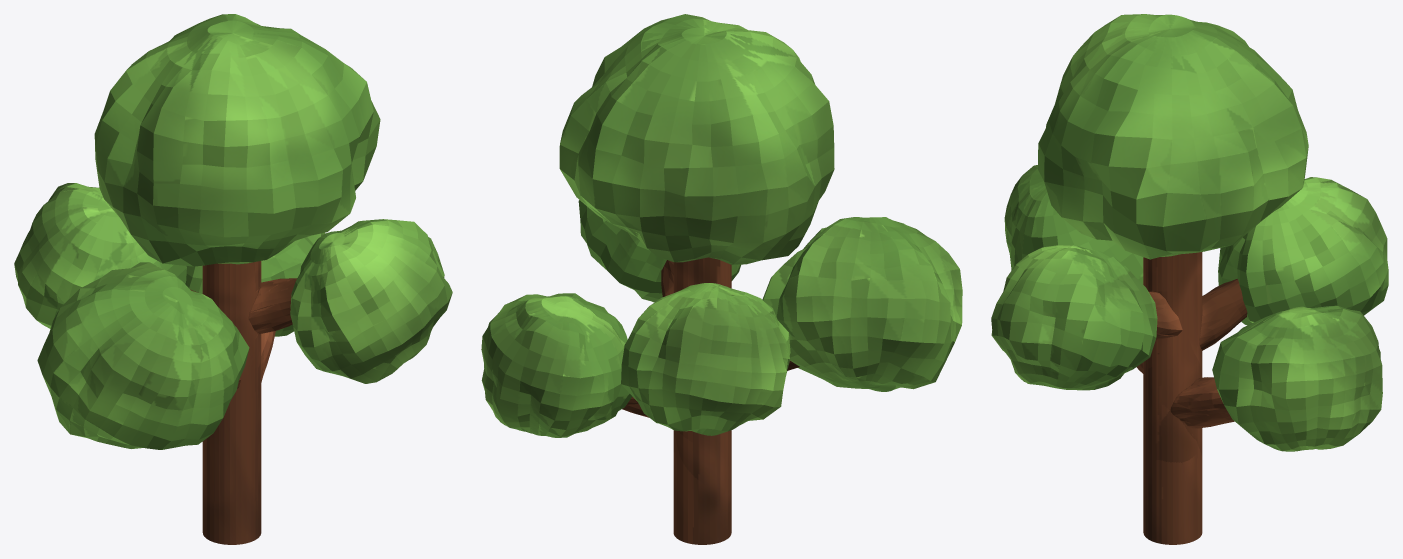
File: variation_tree_1.glb
The picture shows the model from 3 angles, left to right: view 1: azimuth 30°, elevation 25°; view 2: azimuth 150°, elevation 25°; view 3: azimuth 270°, elevation 25°; orthographic projection.
Parts seen in each view (by area): view 1: Leaves, Base; view 2: Leaves, Base; view 3: Leaves, Base.
Part boxes in pixels (<box>): Leaves: <box>14,14,452,449</box>; Base: <box>190,261,296,544</box>; Leaves: <box>481,14,962,437</box>; Base: <box>622,257,799,544</box>; Leaves: <box>991,14,1388,451</box>; Base: <box>1136,252,1247,544</box>.
Size of the model in its own units: 3.91 by 5 by 3.55.
Materials: 2 (2 with a texture image).
